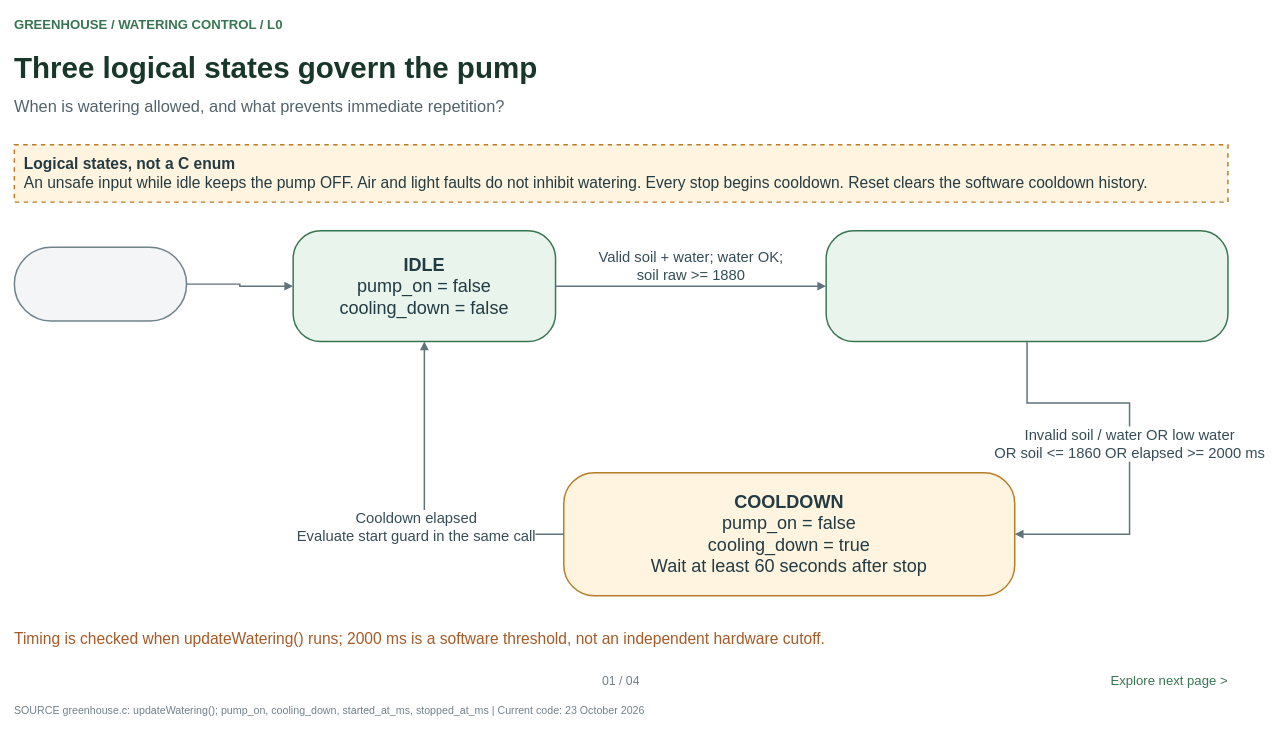
The diagram is 1279 pixels wide and 733 high, and some of its shapes have lost their labels. Here are the shapes that lost their labels. From the top down, the box of each, then its label:
(13, 246, 187, 321): Reset Pump OFF
(825, 230, 1228, 342): WATERING pump_on = true Check stop conditions frequently
